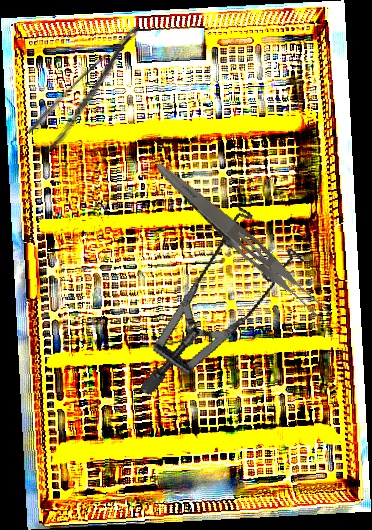Dressing Forceps: (147, 158, 336, 326), (24, 22, 159, 155)
Speculum: (92, 190, 330, 398)
